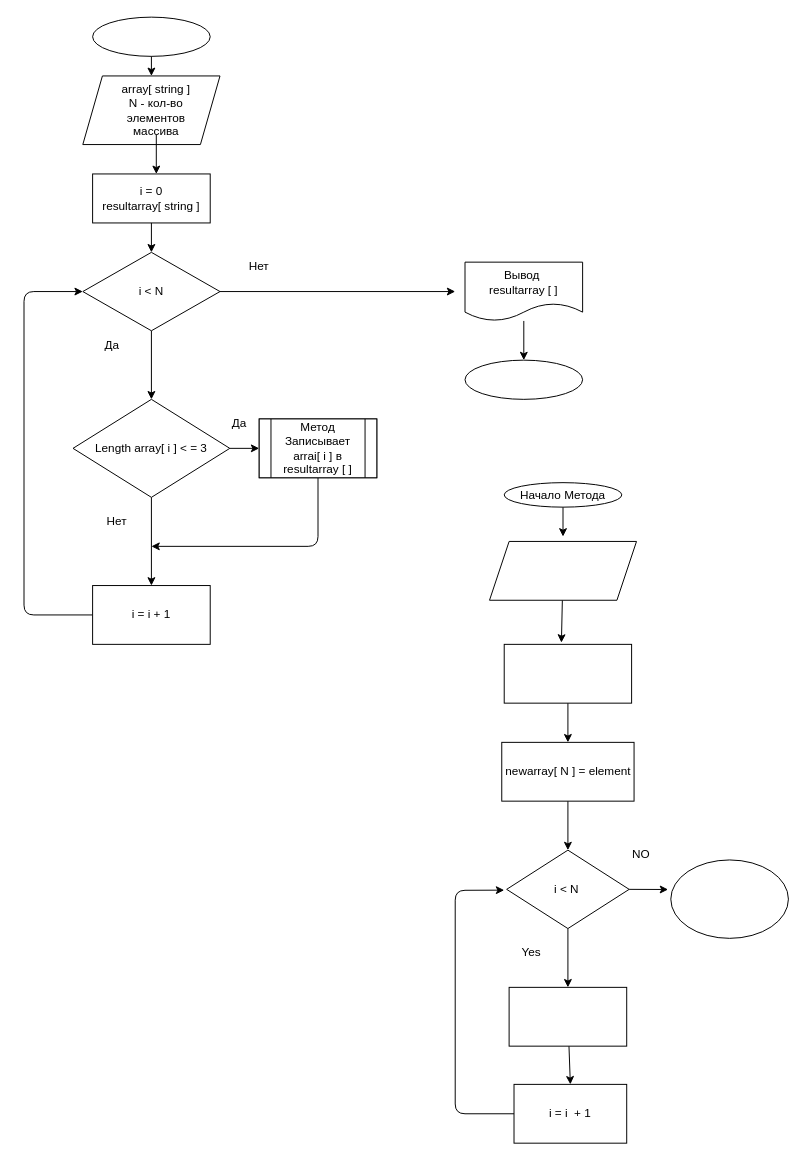
Some shapes in this 806 by 1160 pixel diagram are drawn without their labels. The shapes that lost their labels are listed below. From the top down, each one's centre as x and y in pixels, then its label:
the point at 151,36: Начало
the point at 523,379: Конец
the point at 563,570: resultarray [ string ] N - длина массива element
the point at 567,673: newarray[ string, N+1]
the point at 729,898: Конец возврат newarray [ ]
the point at 567,1016: newarray [ i ] = resultarray [ i ]
